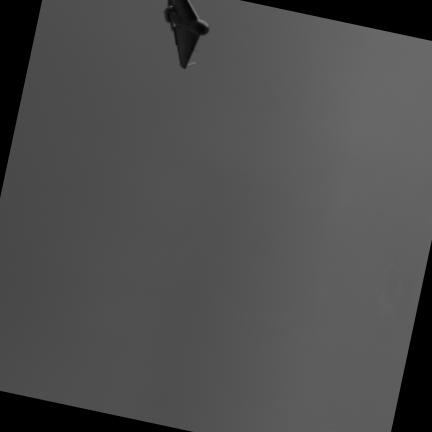Shahed: (163, 0, 209, 70)
